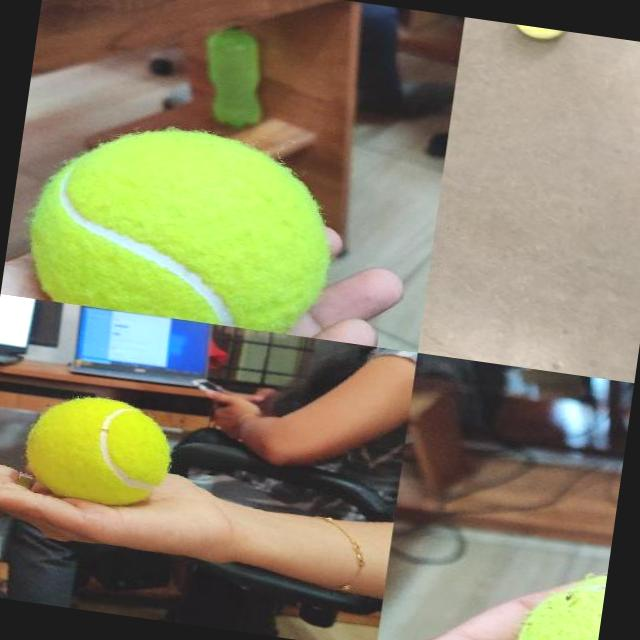Tennis Ball: (21, 110, 343, 338), (22, 389, 176, 508), (508, 23, 568, 42)
